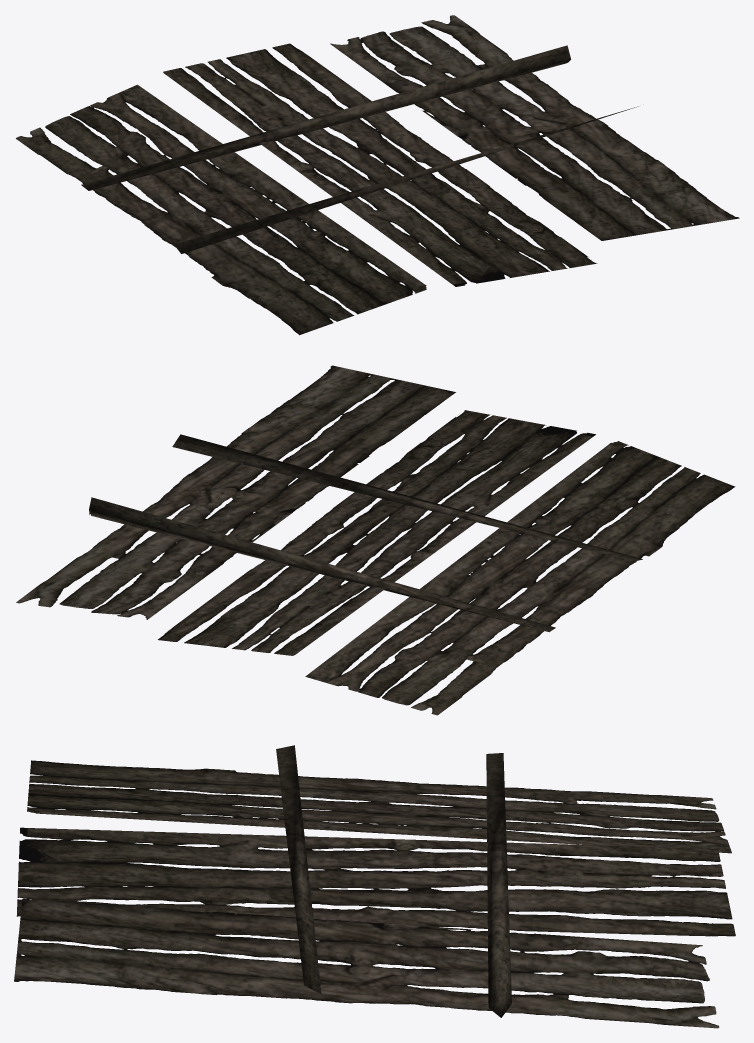
File: MEP_Wall_02_LOD_01.fbx
The picture shows the model from 3 angles, top to bottom: view 1: azimuth 30°, elevation 25°; view 2: azimuth 150°, elevation 25°; view 3: azimuth 270°, elevation 25°; orthographic projection. The views are drawn at different scales.
Parts seen in each view (by area): view 1: MEP_Wall_02_LOD_01; view 2: MEP_Wall_02_LOD_01; view 3: MEP_Wall_02_LOD_01.
Part boxes in pixels (x1,y1,x2,y2): MEP_Wall_02_LOD_01: (16, 15, 739, 335); MEP_Wall_02_LOD_01: (16, 365, 735, 715); MEP_Wall_02_LOD_01: (14, 745, 735, 1028).
Bounding box in the file's own units: 4.75 × 0.5177 × 5.4.
